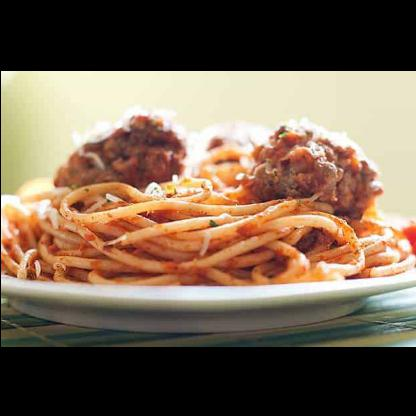spaghetti: (1, 111, 415, 284)
